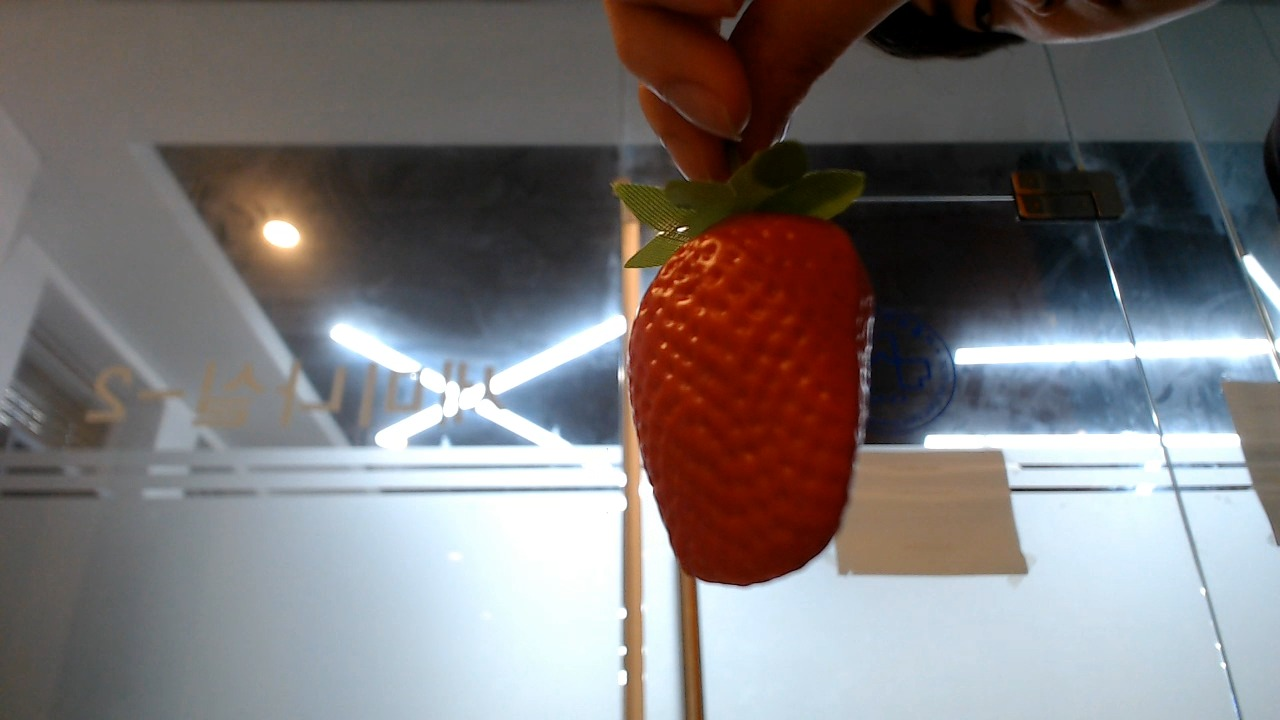strawberry: (624, 169, 875, 587)
